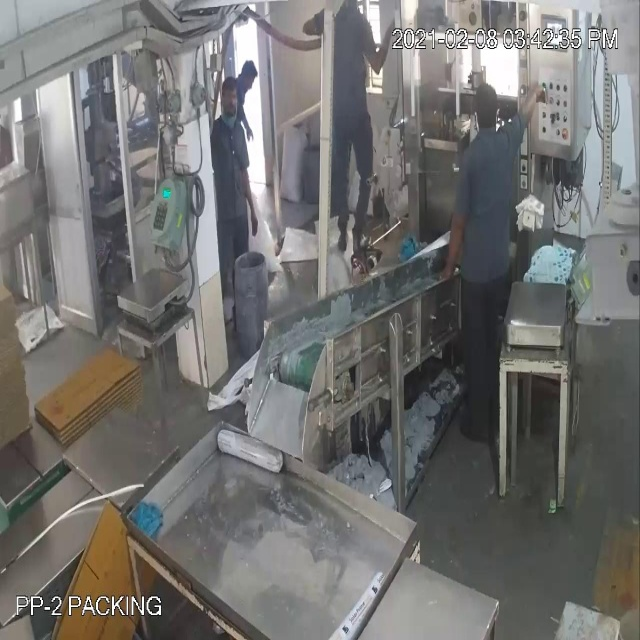Sin_guantes: (444, 198, 468, 303), (360, 20, 401, 81), (238, 169, 263, 244), (515, 82, 546, 137)
